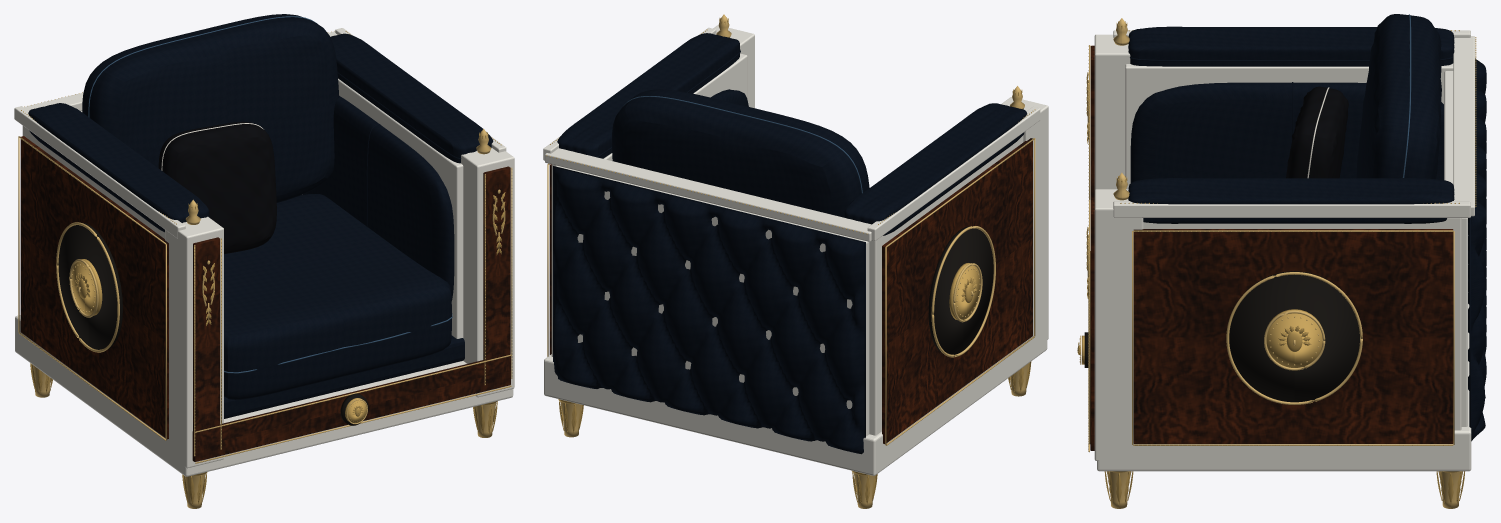
3 views of the same model, side by side, from view 1: azimuth 30°, elevation 25°; view 2: azimuth 150°, elevation 25°; view 3: azimuth 270°, elevation 25° (orthographic). The views are drawn at different scales.
Parts seen in each view (by area): view 1: Wellington white-frame navy armchair | 50294.2 | navy-2 web ; view 2: Wellington white-frame navy armchair | 50294.2 | navy-2 web ; view 3: Wellington white-frame navy armchair | 50294.2 | navy-2 web .
Boxes of the visible parts, left/top/right/bottom form: Wellington white-frame navy armchair | 50294.2 | navy-2 web : left=14, top=14, right=514, bottom=508; Wellington white-frame navy armchair | 50294.2 | navy-2 web : left=543, top=14, right=1048, bottom=508; Wellington white-frame navy armchair | 50294.2 | navy-2 web : left=1077, top=14, right=1486, bottom=508.
Size of the model in its own units: 1.06 by 0.95 by 0.95.
9 materials, 3 textured.
